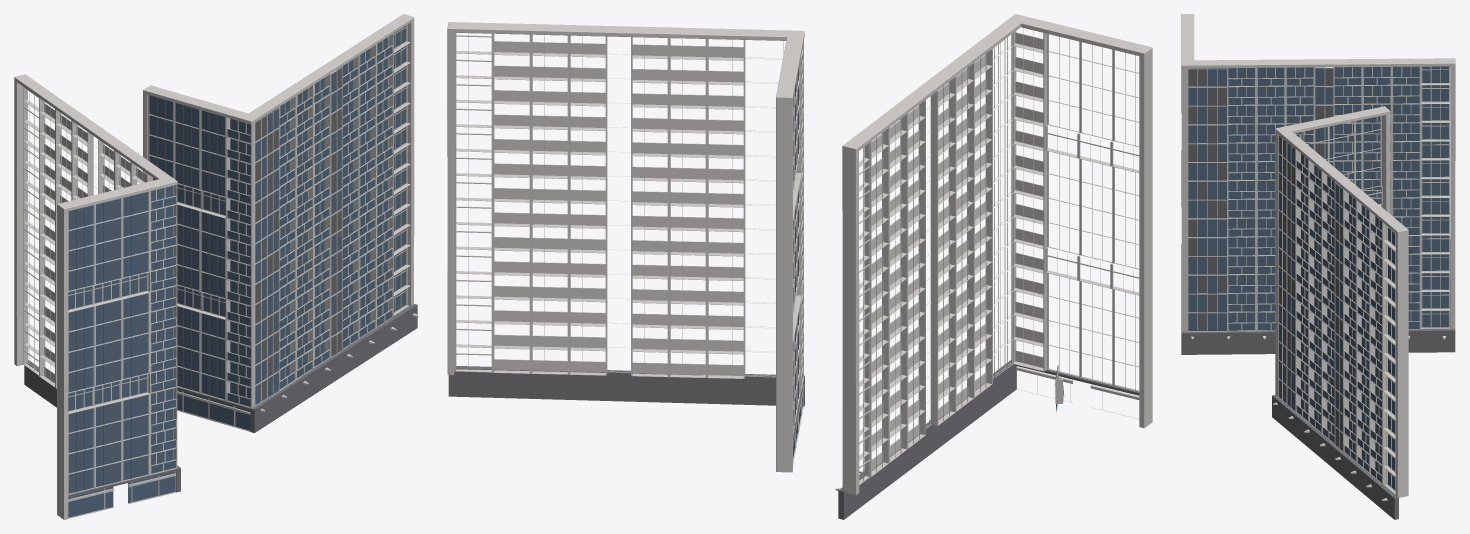
File: building.glb
The picture shows the model from 3 angles, left to right: view 1: azimuth 30°, elevation 25°; view 2: azimuth 150°, elevation 25°; view 3: azimuth 270°, elevation 25°; orthographic projection. The views are drawn at different scales.
Parts seen in each view (by area): view 1: Cube.007, Cube.019, Cube.004, Cube.014, Plane.002, Cube.006, Cube.016, Cube.017, Cube.009, Cube.010, Cube.008, Cube.018 (+5 smaller); view 2: Cube.007, Cube.016, Cube.014, Cube.009, Cube.017, Cube.010, Cube.019, Cube.013, Cube.008, Cube.004, Plane.008, Cube.015 (+3 smaller); view 3: Cube.016, Cube.007, Plane.008, Cube.015, Cube.009, Plane.002, Cube.014, Cube.013, Cube.010, Cube.008, Cube.017, Cube.006 (+1 smaller).
Boxes of the visible parts, x1,y1,x2,y2 form: Cube.007: (277,33,393,390); Cube.019: (68,191,149,494); Cube.004: (147,95,225,400); Cube.014: (14,74,177,519); Plane.002: (255,67,342,405); Cube.006: (225,117,255,408); Cube.016: (39,98,152,388); Cube.017: (148,185,177,475); Cube.009: (143,14,414,305); Cube.010: (177,304,417,432); Cube.008: (394,25,410,315); Cube.018: (68,272,150,414); Cube.007: (493,33,745,378); Cube.016: (864,49,992,477); Cube.014: (842,14,1152,495); Cube.009: (447,22,804,472); Cube.017: (1011,28,1047,371); Cube.010: (448,366,804,443); Cube.019: (1047,34,1139,391); Cube.013: (838,360,1139,519); Cube.008: (455,33,492,372); Cube.004: (793,59,800,433); Plane.008: (926,34,1011,427); Cube.015: (859,142,870,484); Cube.016: (1227,66,1420,331); Cube.007: (1295,149,1386,484); Plane.008: (1188,68,1334,331); Cube.015: (1421,66,1450,328); Cube.009: (1275,106,1408,497); Plane.002: (1278,134,1343,452); Cube.014: (1181,14,1455,328); Cube.013: (1181,282,1455,354); Cube.010: (1272,395,1398,519); Cube.008: (1383,225,1395,493); Cube.017: (1182,68,1187,331); Cube.006: (1275,131,1304,396).
Size of the model in its own units: 67.17 by 43.65 by 36.74.
